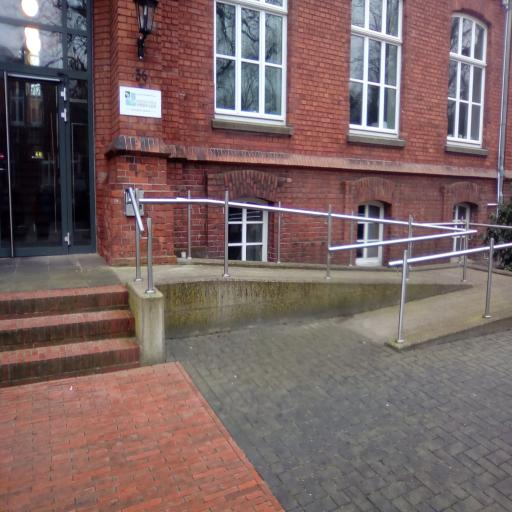ramp: (150, 262, 471, 341), (344, 285, 510, 359)
stairs: (0, 286, 146, 380)
